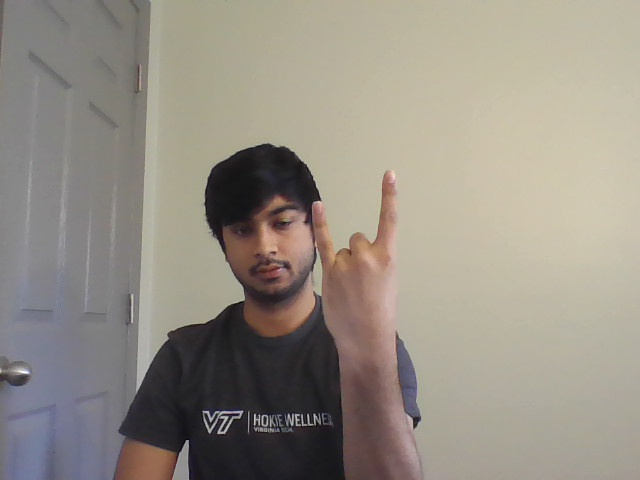help: (309, 165, 410, 333)
